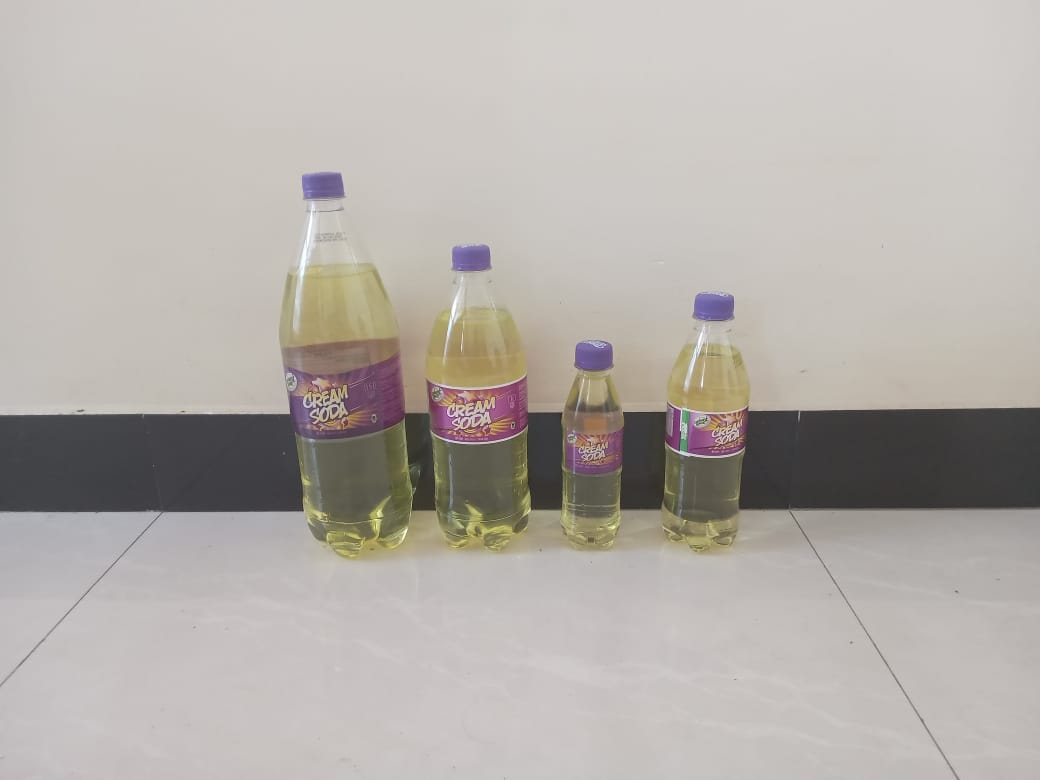L: (278, 173, 417, 556)
M: (426, 244, 534, 552)
S: (666, 292, 752, 552)
Xs: (557, 338, 630, 548)
